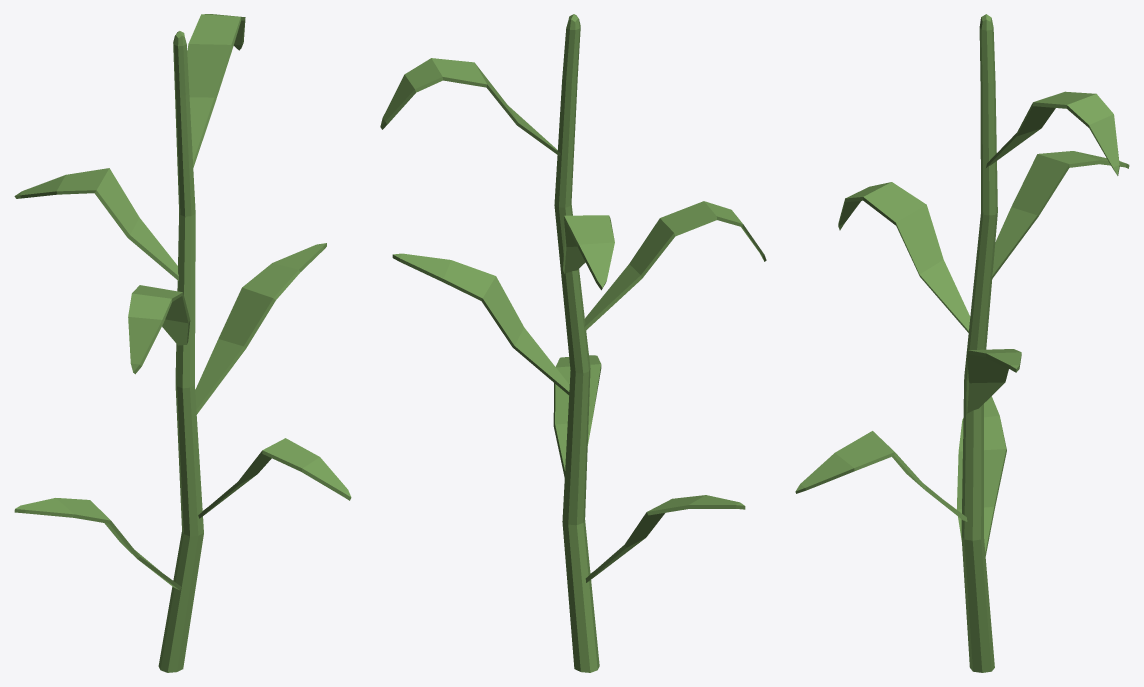
The model's file is Corn_3.glb.
3 renders of one model, left to right at view 1: azimuth 30°, elevation 25°; view 2: azimuth 150°, elevation 25°; view 3: azimuth 270°, elevation 25°, orthographic. The views are drawn at different scales.
Visible parts, largest first — view 1: Corn_3; view 2: Corn_3; view 3: Corn_3.
Part boxes in pixels (x1,y1,x2,y2): Corn_3: (14,14,351,672); Corn_3: (380,14,766,672); Corn_3: (795,14,1129,672).
Size of the model in its own units: 0.6747 by 1.25 by 0.5726.
